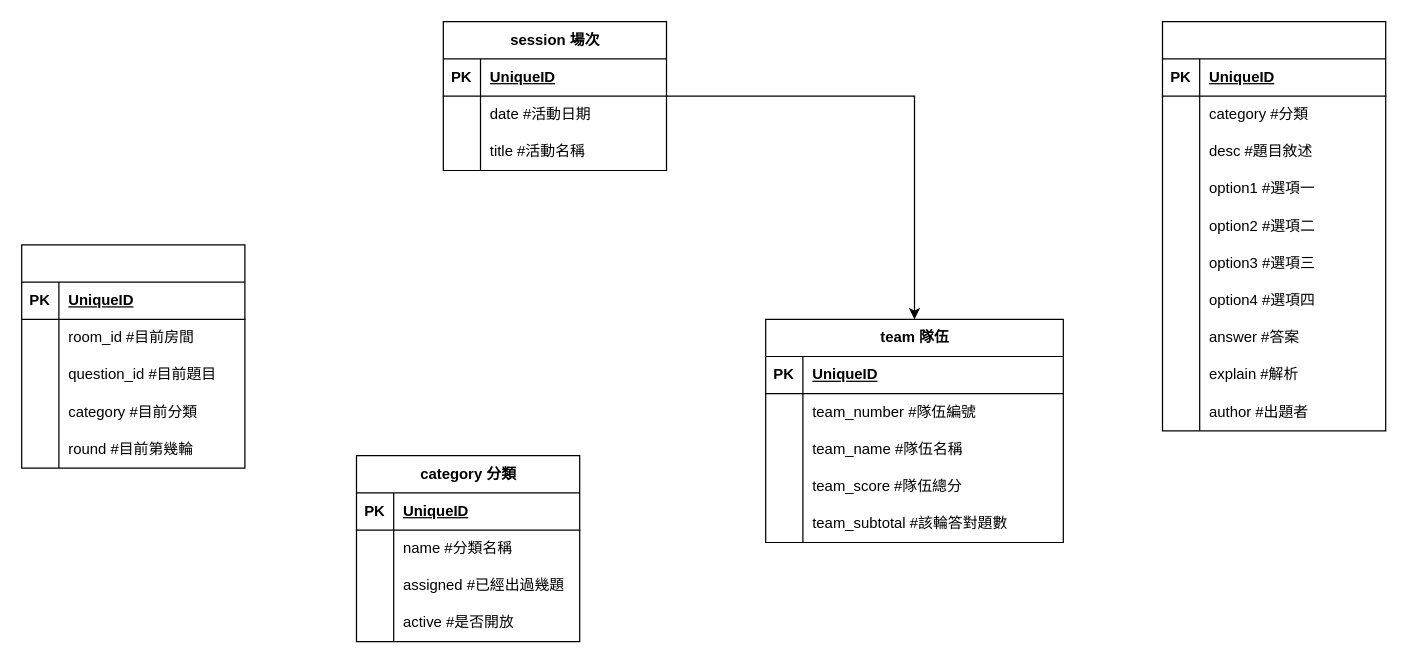
Some shapes in this 1407 by 663 pixel diagram are drawn without their labels. Each missing label, with the box of its shape:
question #題目: (1161, 20, 1386, 431)
stage 舞台: (20, 244, 245, 468)
